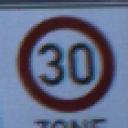speed_limit_30: (14, 14, 117, 114)
